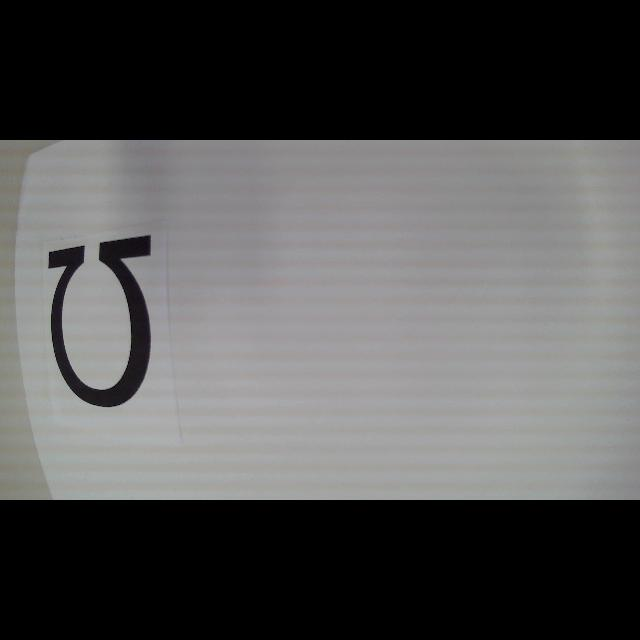OMEGA: (48, 235, 152, 408)
